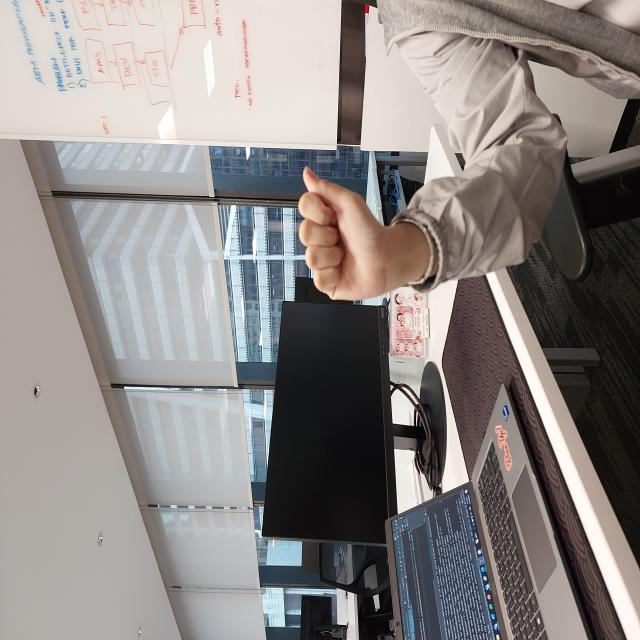A: (340, 300, 473, 382)
